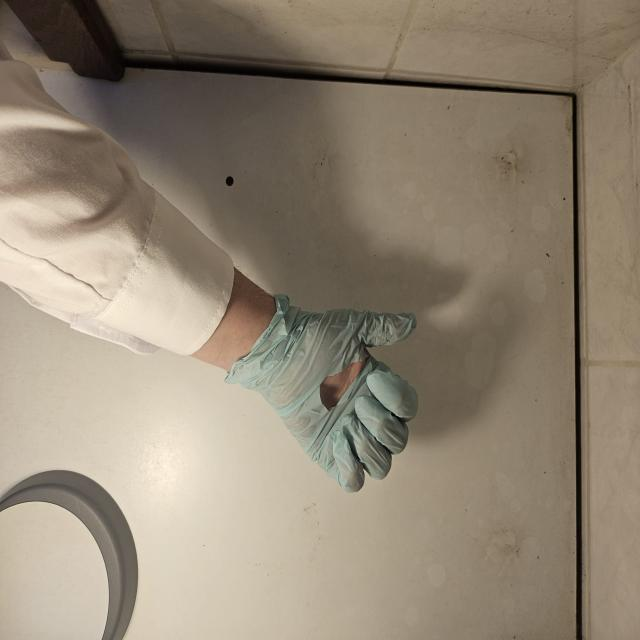gloves_damaged: (233, 292, 423, 498)
